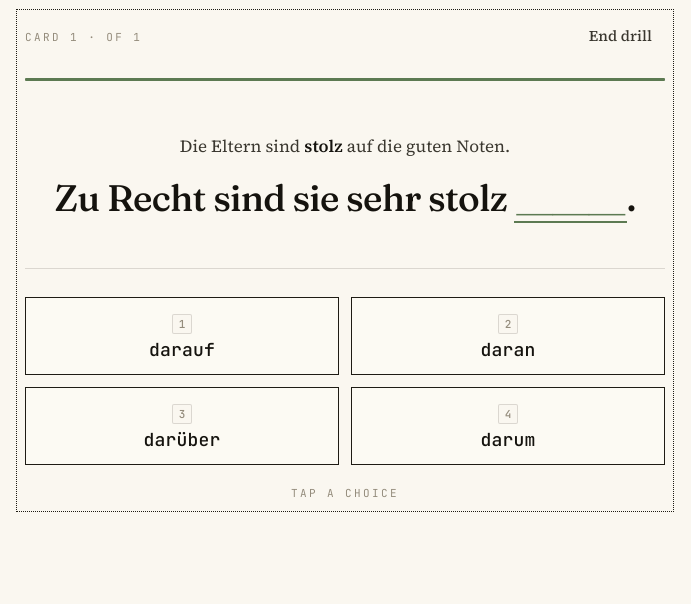
it: NeighborsRunner — smoke tests › has no mode toggle in the query — reveals feedback after a wrong pick
Click the button with class "choice" showing "2 daran": (508, 336) [351,297,665,375]
(page scrolled)
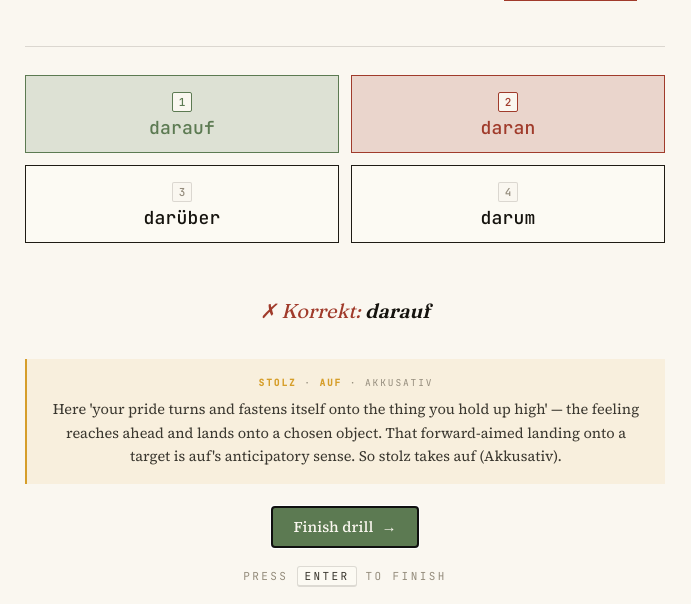
Now the element with class "wrong" showing "✗ Korrekt: darauf" is shown, box [260,295,430,327]
